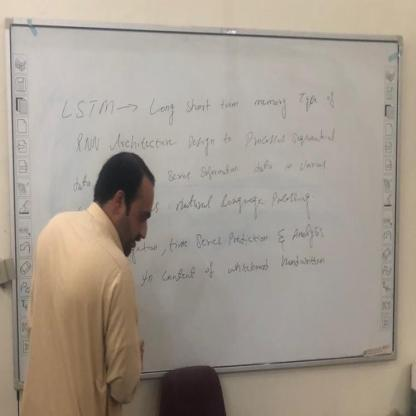Handwritten text: (60, 81, 342, 123), (74, 126, 345, 155), (162, 254, 332, 286), (159, 154, 342, 183), (167, 223, 329, 254), (172, 188, 322, 220)
Lecturer: (25, 151, 157, 416)
Whiteboard: (2, 23, 400, 393)
